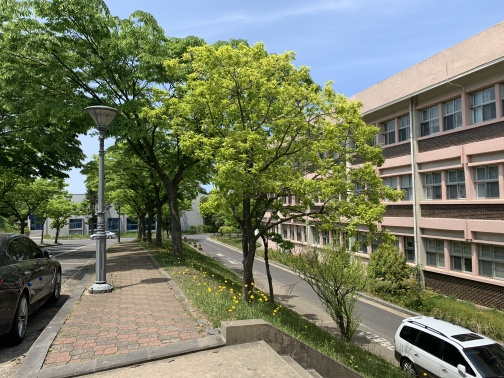College Of Education: (246, 81, 504, 302)
